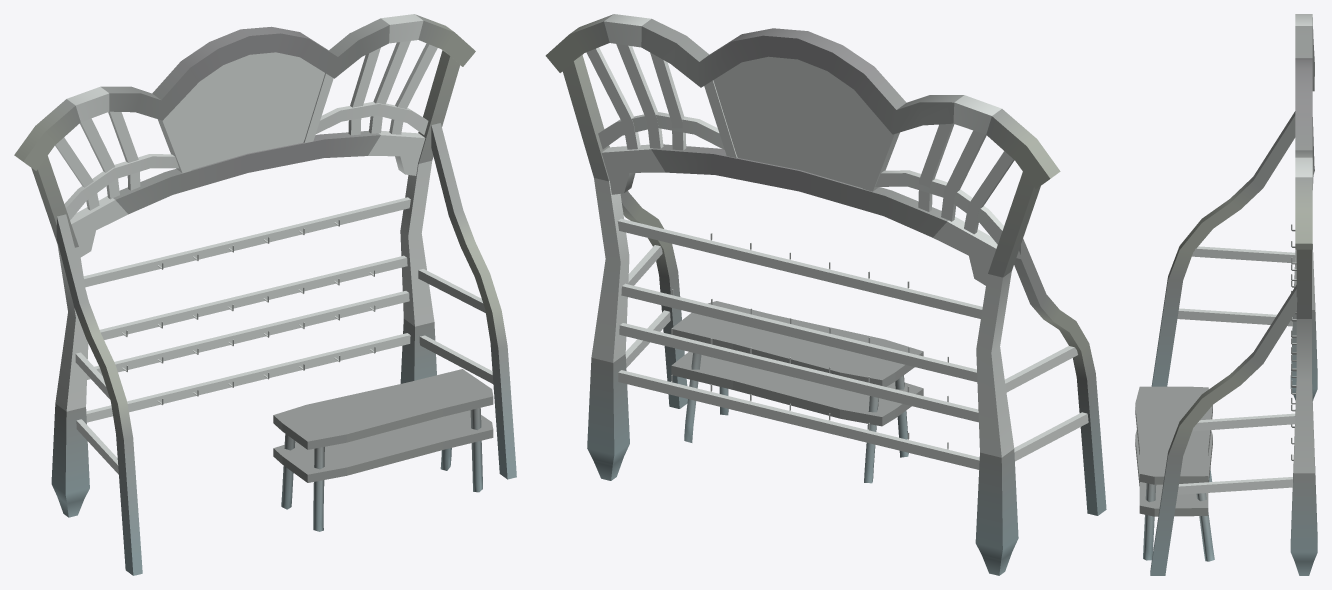
The picture shows the model from 3 angles, left to right: view 1: azimuth 30°, elevation 25°; view 2: azimuth 150°, elevation 25°; view 3: azimuth 270°, elevation 25°; orthographic projection. The views are drawn at different scales.
Visible parts, largest first — view 1: G:\FFXIV-MapTools\exports\x6f3\bg\ex5\01_xkt_x6\fld\x6f3\bgp (×4); view 2: G:\FFXIV-MapTools\exports\x6f3\bg\ex5\01_xkt_x6\fld\x6f3\bgp (×2); view 3: G:\FFXIV-MapTools\exports\x6f3\bg\ex5\01_xkt_x6\fld\x6f3\bgp (×3).
Boxes of the visible parts, x1,y1,x2,y2 form: G:\FFXIV-MapTools\exports\x6f3\bg\ex5\01_xkt_x6\fld\x6f3\bgp (×4): (14,14,516,575); G:\FFXIV-MapTools\exports\x6f3\bg\ex5\01_xkt_x6\fld\x6f3\bgp (×2): (545,14,1106,575); G:\FFXIV-MapTools\exports\x6f3\bg\ex5\01_xkt_x6\fld\x6f3\bgp (×3): (1135,14,1317,575).
Size of the model in its own units: 5.12 by 4.75 by 1.86.
